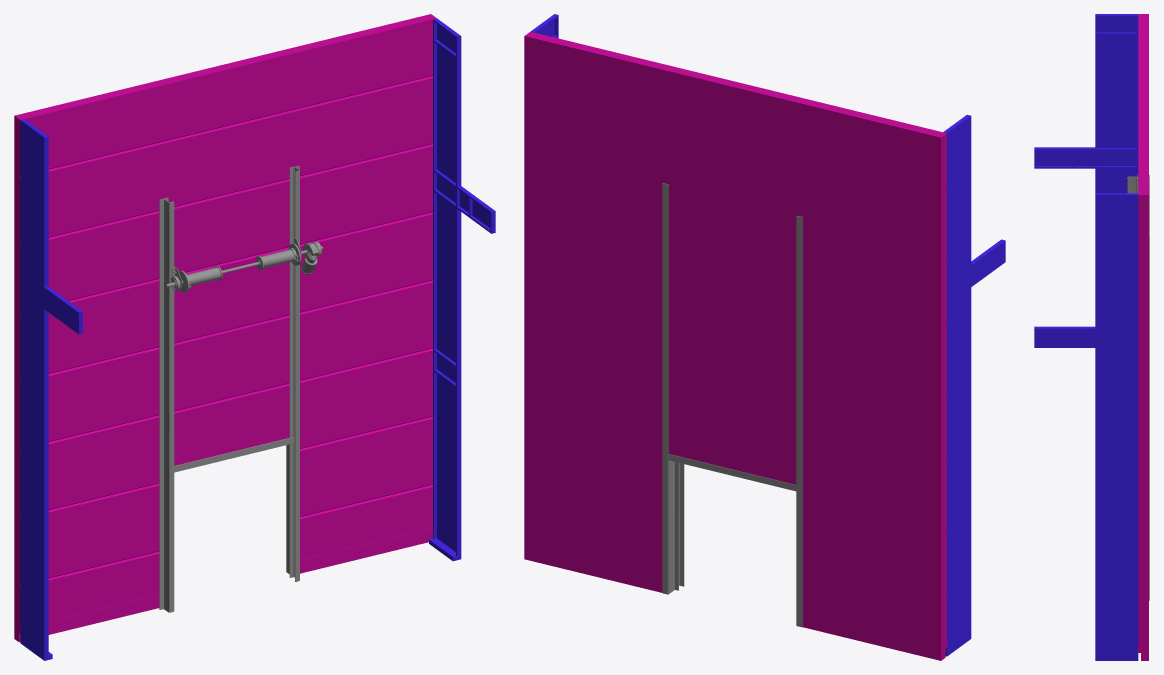
The model's file is Dock_Wall_A.glb.
The picture shows the model from 3 angles, left to right: view 1: azimuth 30°, elevation 25°; view 2: azimuth 150°, elevation 25°; view 3: azimuth 270°, elevation 25°; orthographic projection. The views are drawn at different scales.
Visible parts, largest first — view 1: Dock_Wall_A; view 2: Dock_Wall_A; view 3: Dock_Wall_A.
Part boxes in pixels (box(x1,y1,x2,y2)): Dock_Wall_A: box(14, 14, 495, 660); Dock_Wall_A: box(524, 14, 1005, 660); Dock_Wall_A: box(1034, 14, 1149, 660).
Bounding box in the file's own units: 10 × 12 × 2.7.
